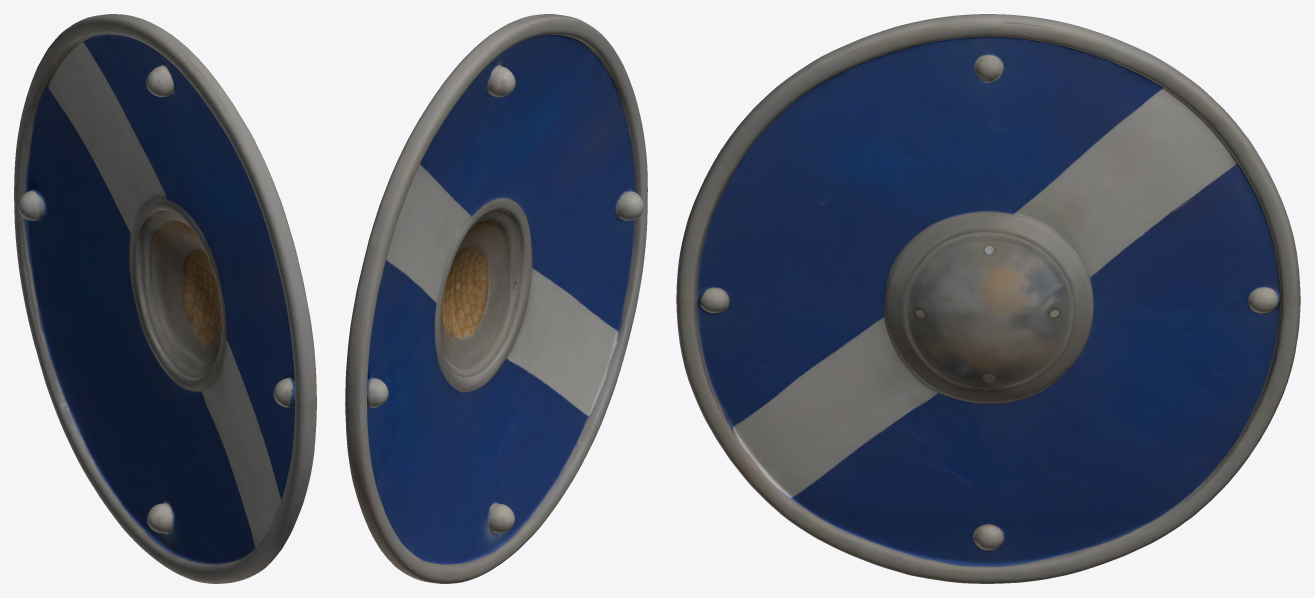
3 renders of one model, left to right at view 1: azimuth 30°, elevation 25°; view 2: azimuth 150°, elevation 25°; view 3: azimuth 270°, elevation 25°, orthographic. The views are drawn at different scales.
Parts seen in each view (by area): view 1: tripo_node_3bc16d64-41b2-4b5b-b244-26eabe6e66bf; view 2: tripo_node_3bc16d64-41b2-4b5b-b244-26eabe6e66bf; view 3: tripo_node_3bc16d64-41b2-4b5b-b244-26eabe6e66bf.
Part boxes in pixels (x1,y1,x2,y2): tripo_node_3bc16d64-41b2-4b5b-b244-26eabe6e66bf: (14, 14, 316, 583); tripo_node_3bc16d64-41b2-4b5b-b244-26eabe6e66bf: (345, 14, 647, 583); tripo_node_3bc16d64-41b2-4b5b-b244-26eabe6e66bf: (676, 14, 1300, 583).
Size of the model in its own units: 0.1244 by 0.9498 by 0.949.
1 material, 1 textured.
